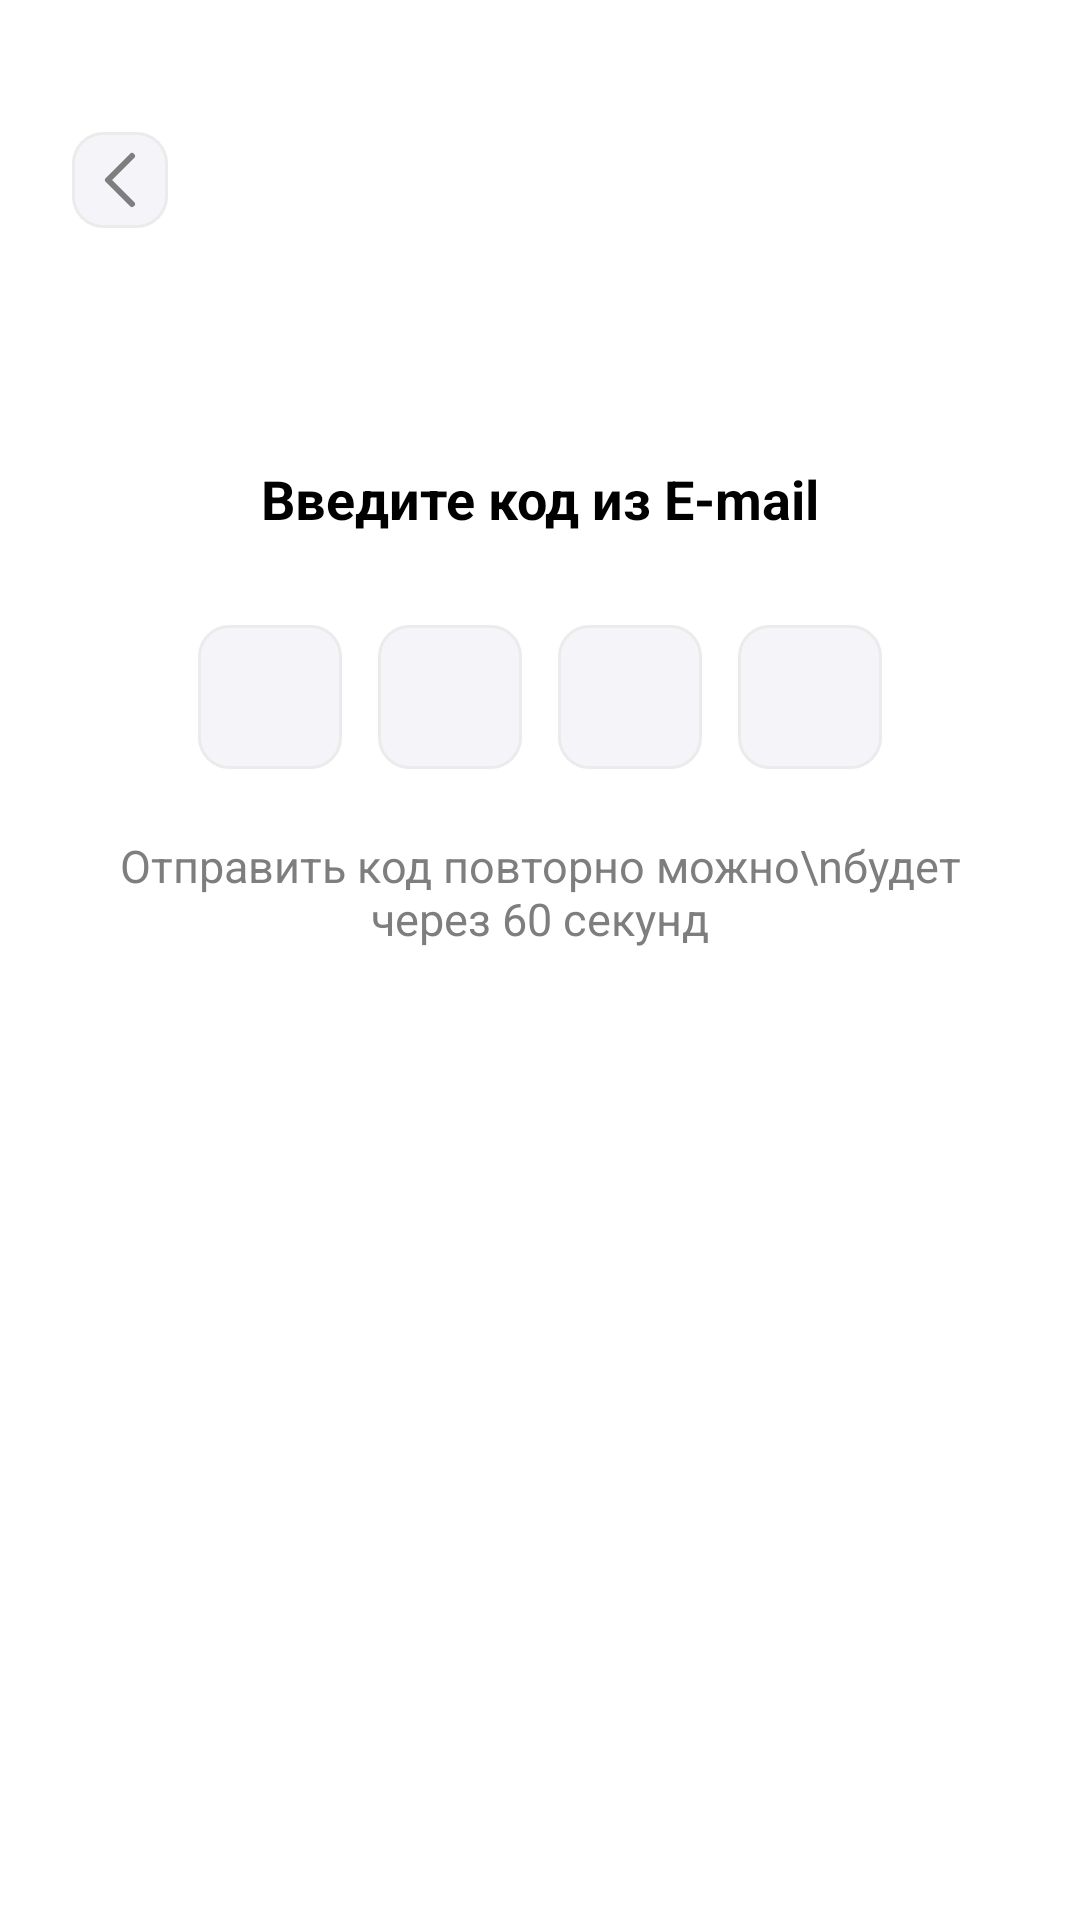

Locate icon controls on the screen. Image size 1080 x 1920, boxes as (x1, y1, x2, y2).
back: (72, 132, 168, 228)
